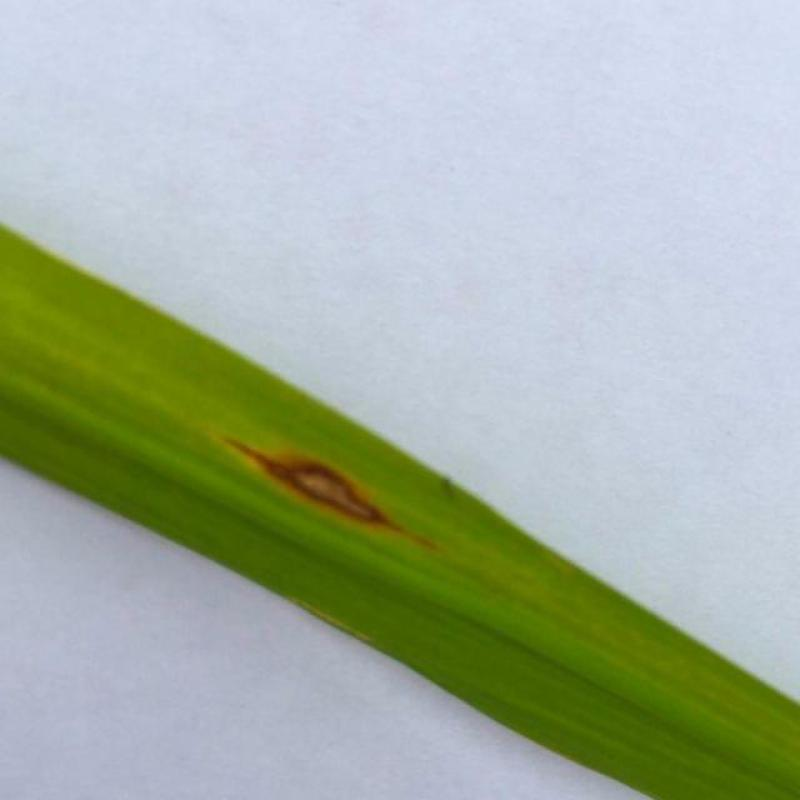Leaf_Blast: (222, 390, 432, 580)
